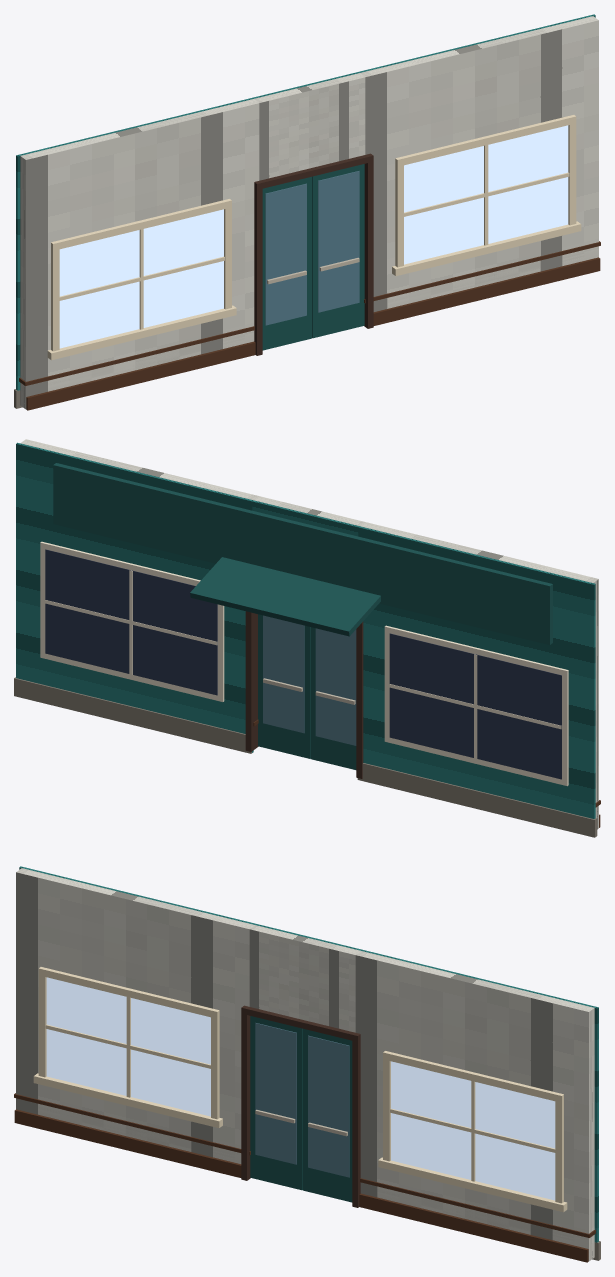
The model's file is front.glb.
3 views of the same model, one above another, from view 1: azimuth 30°, elevation 25°; view 2: azimuth 150°, elevation 25°; view 3: azimuth 330°, elevation 25° (orthographic).
Visible parts, largest first — view 1: Box1, Box3, Box30, Box41, Box5, Box15, Box19, Box2, Box4, Box18, Box14, Box48 (+17 smaller); view 2: Box44, Box6, Box8, Box23, Box34, Box45, Box7, Box9, Box15, Box19, Box22, Box33 (+10 smaller); view 3: Box3, Box1, Box41, Box30, Box5, Box19, Box15, Box4, Box2, Box14, Box18, Box48 (+17 smaller).
Boxes of the visible parts, <box> form: Box1: <box>20,99,259,409</box>; Box3: <box>360,16,598,311</box>; Box30: <box>59,209,223,348</box>; Box41: <box>404,125,568,264</box>; Box5: <box>254,73,365,180</box>; Box15: <box>265,183,306,325</box>; Box19: <box>318,171,359,312</box>; Box2: <box>26,341,255,410</box>; Box4: <box>373,257,600,325</box>; Box18: <box>312,164,364,338</box>; Box14: <box>262,176,311,350</box>; Box48: <box>373,246,598,311</box>; Box44: <box>53,463,552,644</box>; Box6: <box>358,526,595,818</box>; Box8: <box>16,442,253,752</box>; Box23: <box>389,633,561,779</box>; Box34: <box>45,549,217,695</box>; Box45: <box>190,557,380,636</box>; Box7: <box>357,763,597,837</box>; Box9: <box>14,677,253,753</box>; Box15: <box>315,628,356,745</box>; Box19: <box>263,615,304,733</box>; Box22: <box>384,625,568,786</box>; Box33: <box>40,541,224,701</box>; Box3: <box>355,951,594,1261</box>; Box1: <box>16,868,254,1163</box>; Box41: <box>391,1061,555,1200</box>; Box30: <box>46,977,210,1116</box>; Box5: <box>249,925,360,1032</box>; Box19: <box>308,1035,349,1177</box>; Box15: <box>255,1023,296,1164</box>; Box4: <box>359,1193,588,1262</box>; Box2: <box>14,1109,241,1177</box>; Box14: <box>250,1016,302,1190</box>; Box18: <box>303,1028,352,1202</box>; Box48: <box>360,1182,594,1260</box>.
Size of the model in its own units: 8.77 by 3.64 by 1.22.
12 materials, 2 textured.
